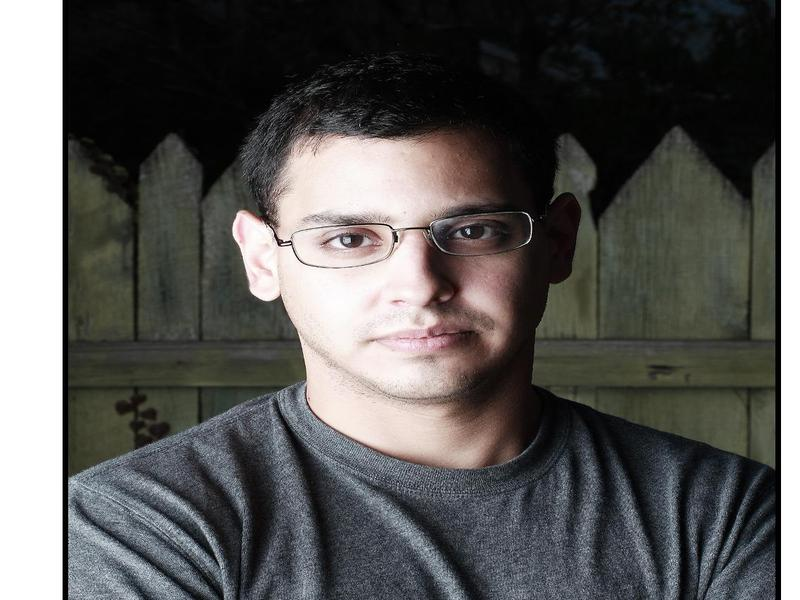person: (72, 52, 776, 600)
